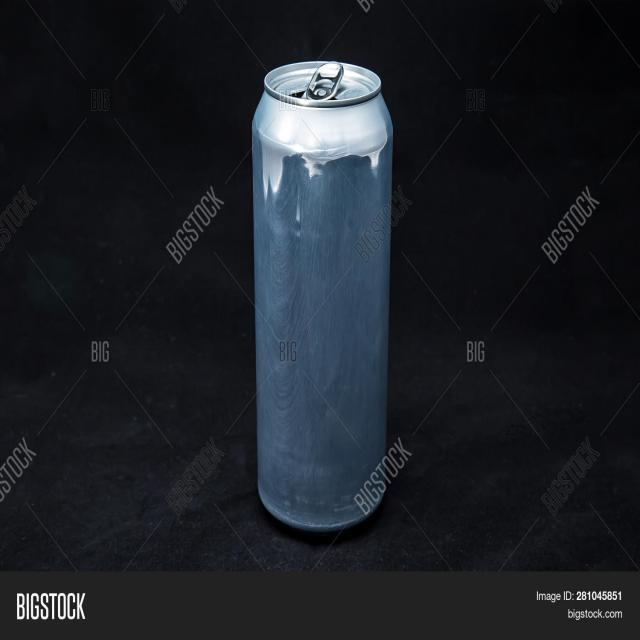can: (244, 44, 398, 532)
